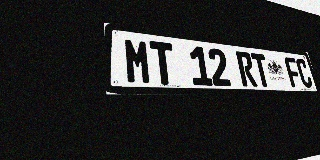1: (188, 45, 213, 86)
2: (207, 48, 231, 86)
C: (295, 58, 313, 88)
F: (284, 57, 303, 87)
M: (123, 37, 152, 84)
R: (235, 51, 258, 87)
T: (149, 41, 177, 85), (250, 53, 272, 87)
